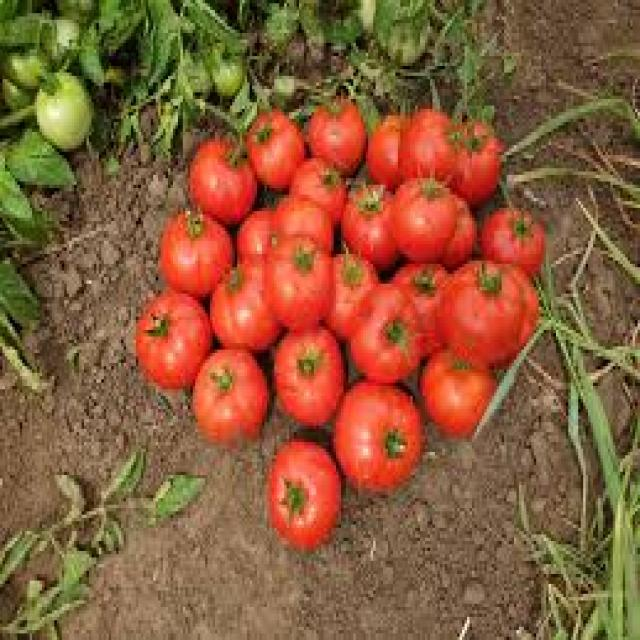Tomato: (337, 366, 426, 497), (443, 252, 527, 361), (261, 436, 346, 543), (191, 338, 275, 444), (125, 289, 209, 389), (344, 280, 419, 382), (423, 335, 491, 439), (186, 126, 259, 222), (398, 94, 462, 194), (275, 333, 347, 419), (213, 261, 274, 361), (158, 208, 232, 290), (396, 162, 457, 258), (266, 230, 328, 320), (304, 92, 367, 176), (448, 114, 508, 202), (392, 255, 452, 342), (326, 238, 380, 333), (488, 195, 553, 272), (244, 101, 302, 185), (348, 182, 404, 260), (290, 158, 346, 222), (370, 112, 414, 180)
